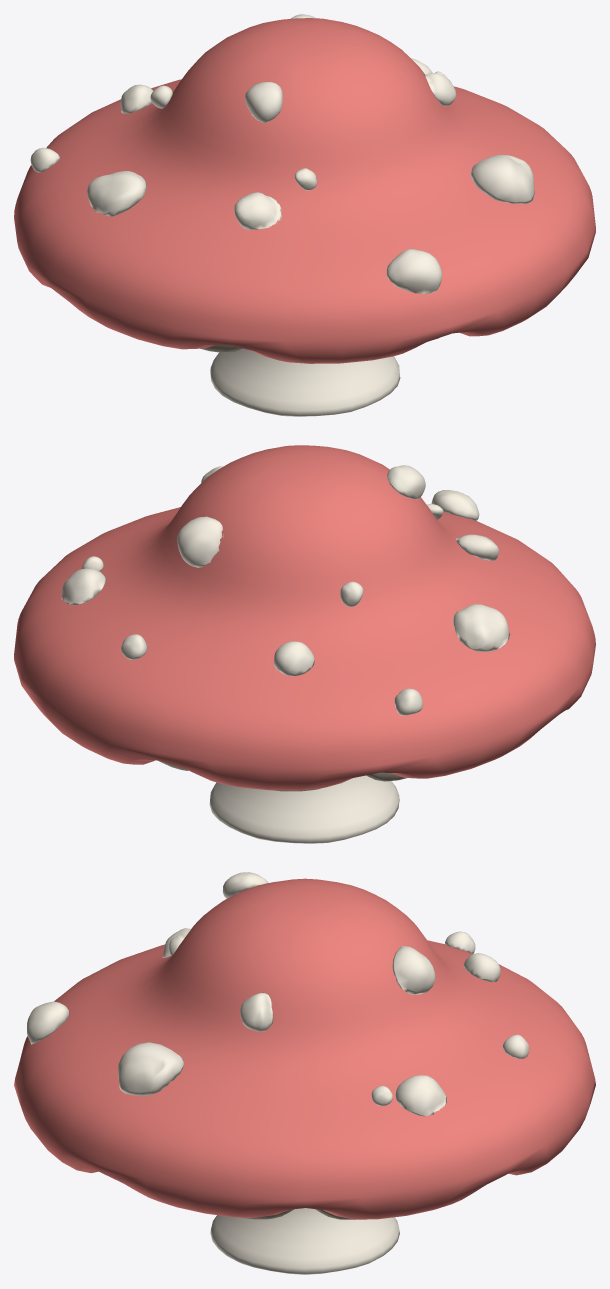
File: Pink mushroom.fbx
3 renders of one model, top to bottom at view 1: azimuth 30°, elevation 25°; view 2: azimuth 150°, elevation 25°; view 3: azimuth 270°, elevation 25°, orthographic.
Visible parts, largest first — view 1: mushroom.010, little_mushrooms; view 2: mushroom.010, little_mushrooms; view 3: mushroom.010, little_mushrooms.
Boxes of the visible parts, bbox=[...] form: mushroom.010: bbox=[14, 18, 595, 416]; little_mushrooms: bbox=[30, 14, 534, 293]; mushroom.010: bbox=[14, 445, 595, 843]; little_mushrooms: bbox=[61, 465, 509, 715]; mushroom.010: bbox=[14, 878, 595, 1274]; little_mushrooms: bbox=[27, 872, 529, 1116].
Bounding box in the file's own units: 141 × 92.33 × 141.
